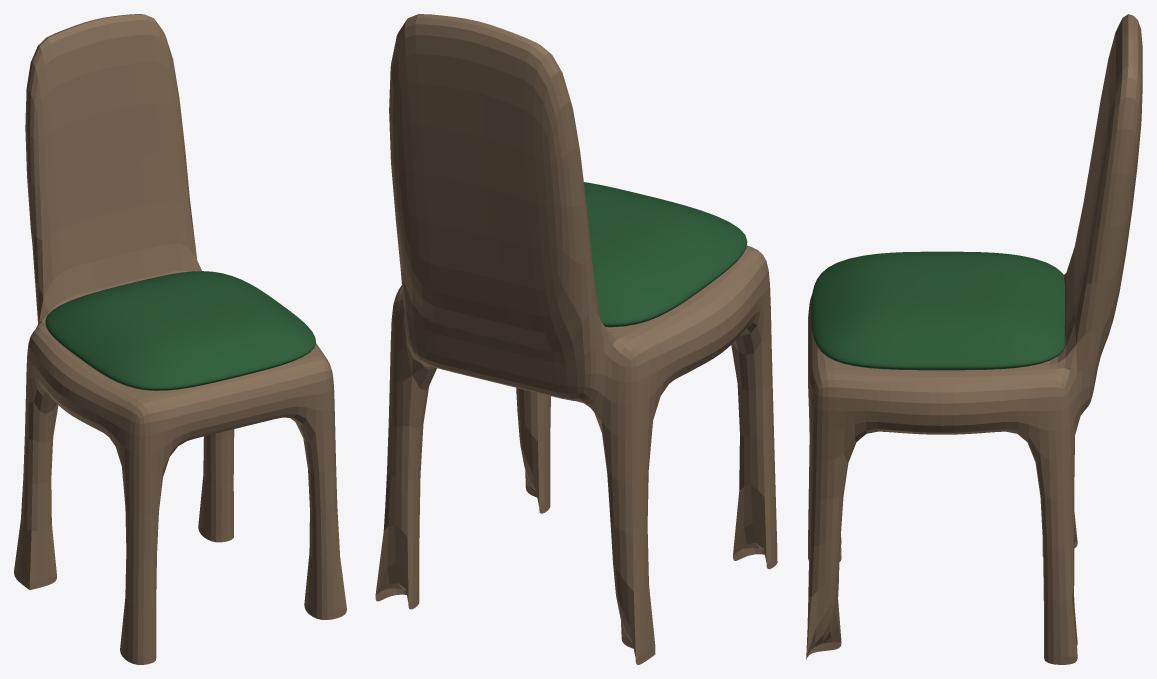
File: Clubchair.fbx
3 renders of one model, left to right at view 1: azimuth 30°, elevation 25°; view 2: azimuth 150°, elevation 25°; view 3: azimuth 270°, elevation 25°, orthographic. The views are drawn at different scales.
Visible parts, largest first — view 1: chair, cushion; view 2: chair, cushion; view 3: chair, cushion.
Part boxes in pixels (<box>): chair: <box>14,14,346,664</box>; cushion: <box>45,271,315,390</box>; chair: <box>375,14,777,664</box>; cushion: <box>584,182,747,327</box>; chair: <box>806,14,1142,664</box>; cushion: <box>811,251,1064,370</box>.
Size of the model in its own units: 225 by 467 by 248.
